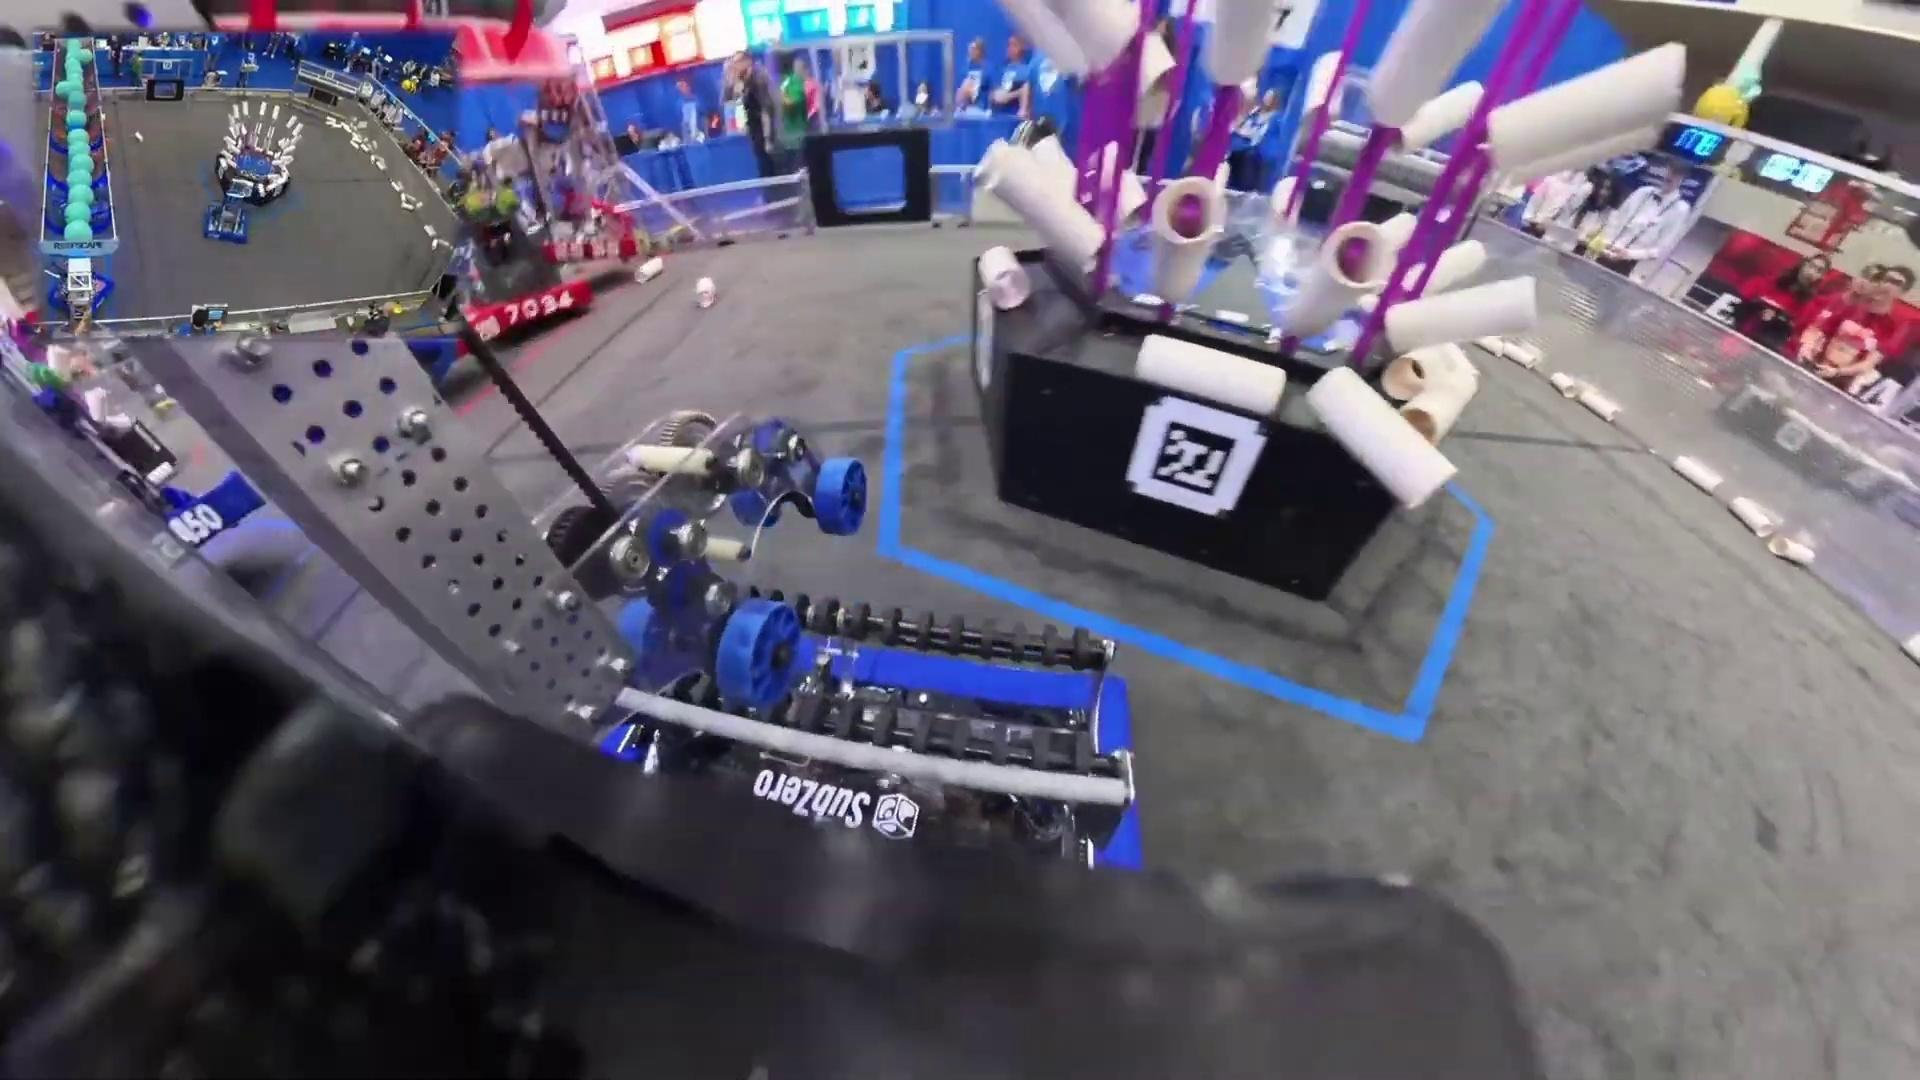robot: (20, 360, 269, 574), (423, 169, 588, 340), (518, 69, 642, 266), (203, 162, 253, 248), (45, 261, 117, 318)
